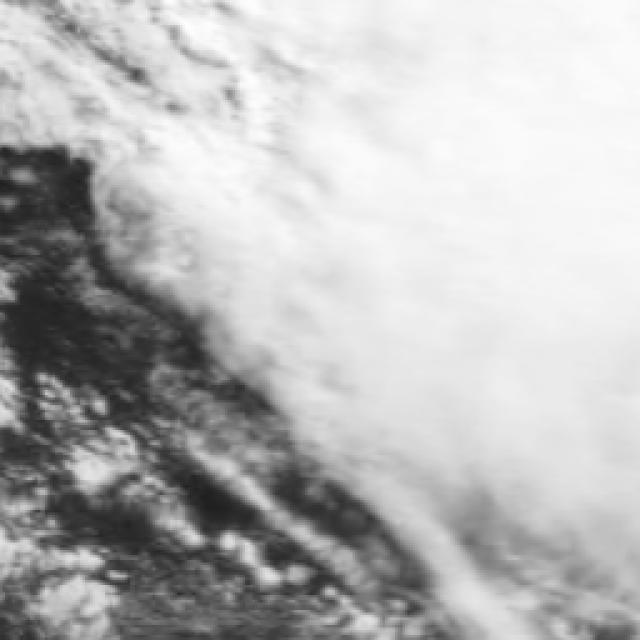CB: (450, 196, 640, 398), (450, 2, 640, 181), (300, 208, 441, 401), (307, 0, 445, 188), (154, 136, 288, 283), (462, 415, 640, 505)
